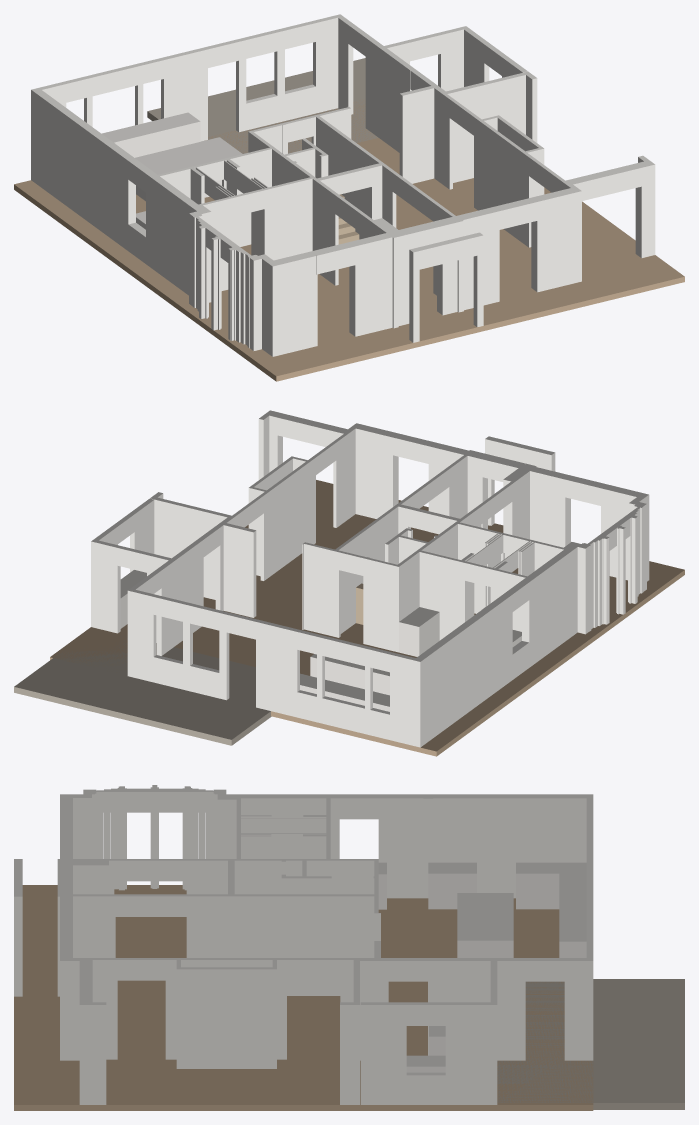
The model's file is a1-first-floor.glb.
The picture shows the model from 3 angles, top to bottom: view 1: azimuth 30°, elevation 25°; view 2: azimuth 150°, elevation 25°; view 3: azimuth 270°, elevation 25°; orthographic projection. The views are drawn at different scales.
Visible parts, largest first — view 1: a1_first_floor; view 2: a1_first_floor; view 3: a1_first_floor.
Part boxes in pixels (left/top/right/bottom): a1_first_floor: left=14, top=14, right=684, bottom=381; a1_first_floor: left=14, top=410, right=684, bottom=756; a1_first_floor: left=14, top=785, right=684, bottom=1110.
Bounding box in the file's own units: 12.13 × 2.74 × 15.63.
